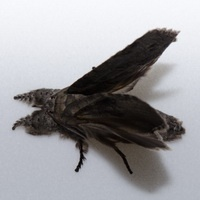insect: (12, 28, 184, 173)
